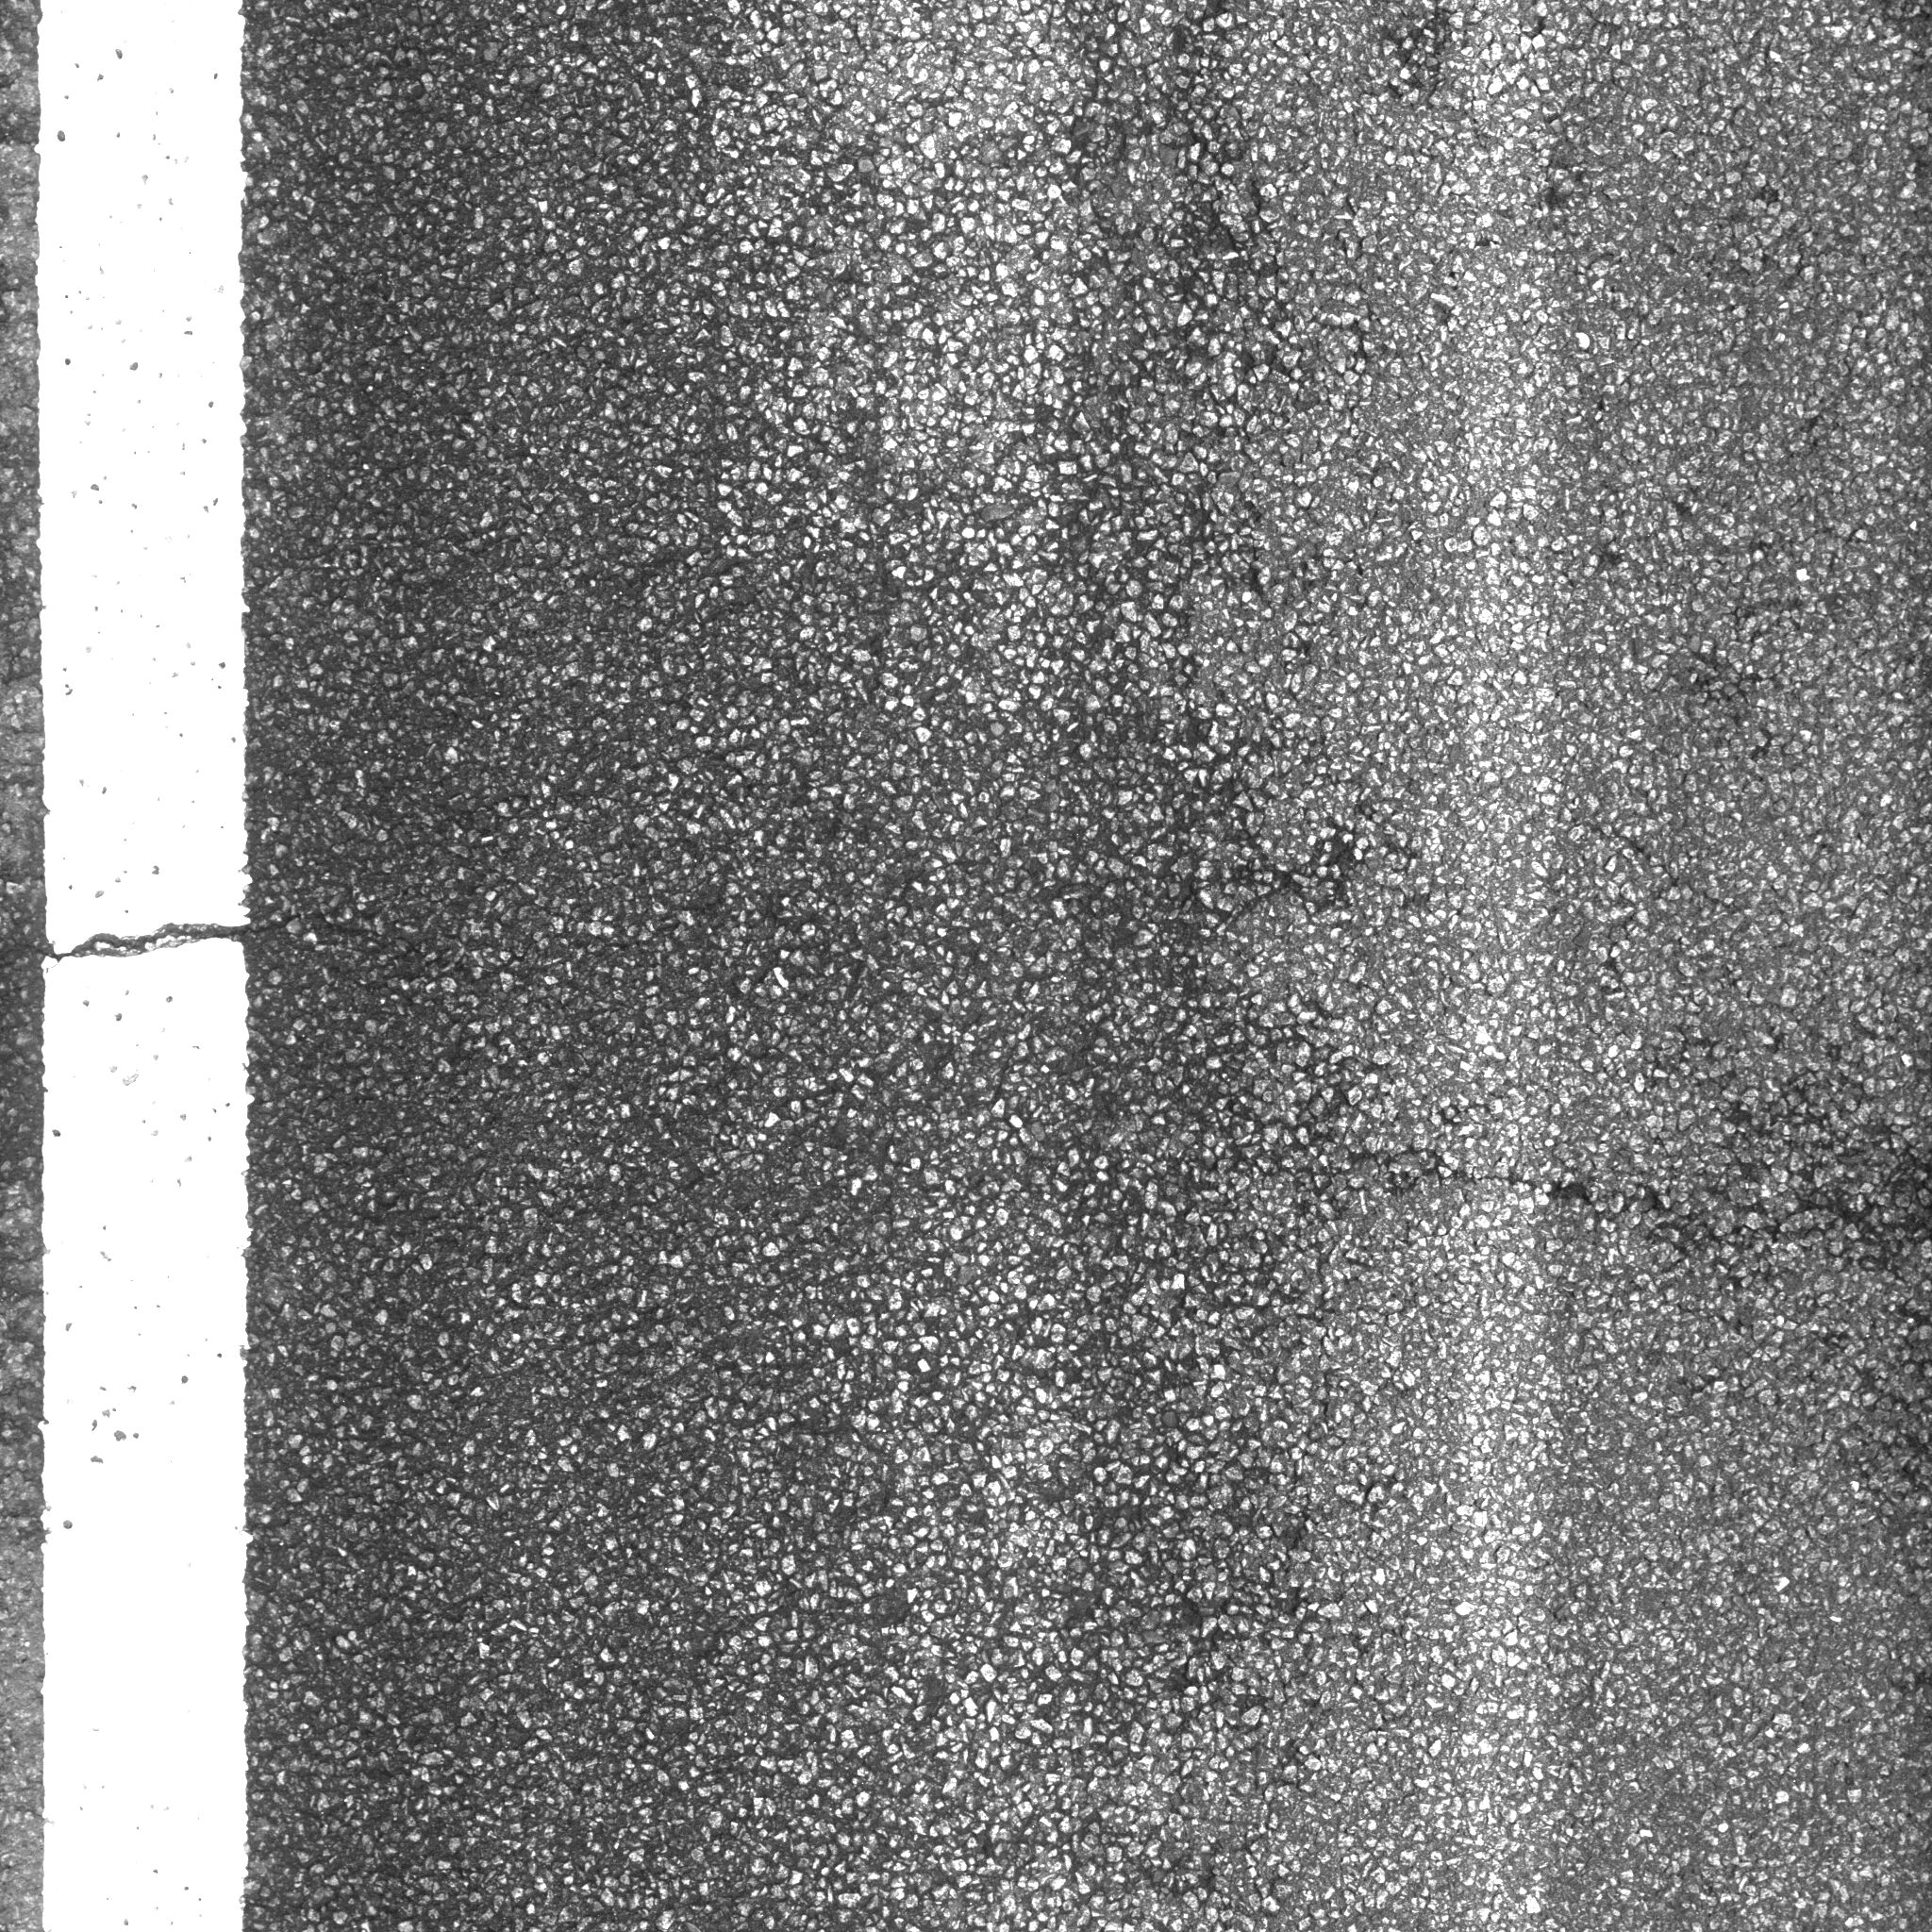transeverse: (1346, 1102, 1916, 1292), (21, 867, 380, 987)
